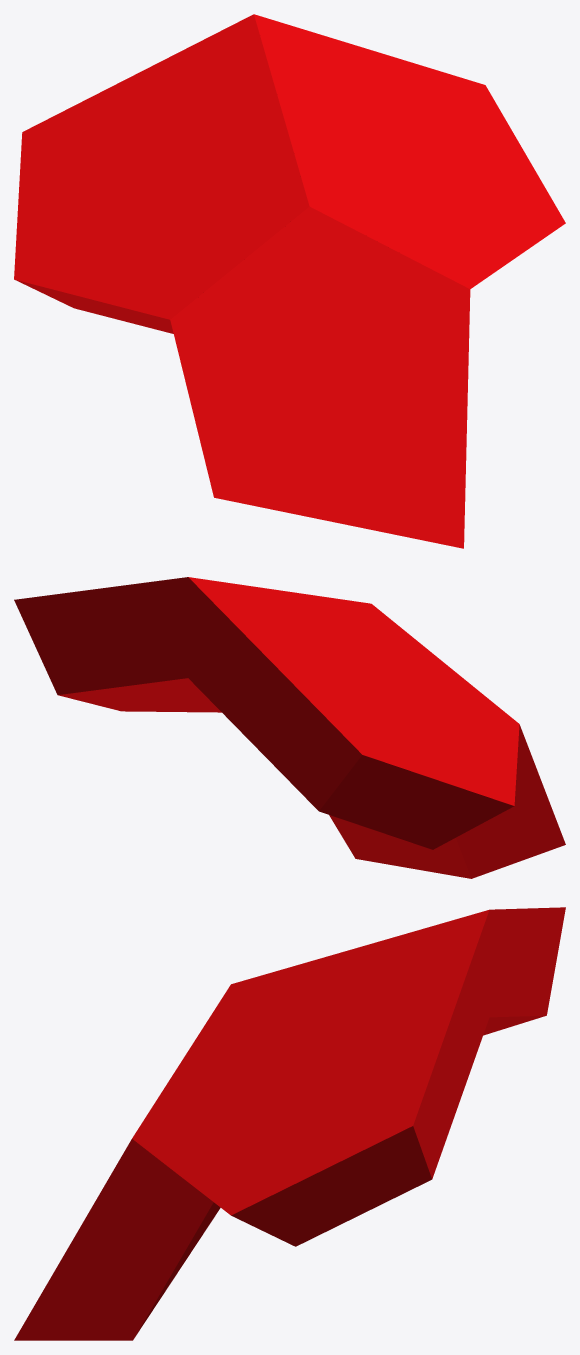
File: piece6.glb
3 renders of one model, top to bottom at view 1: azimuth 30°, elevation 25°; view 2: azimuth 150°, elevation 25°; view 3: azimuth 270°, elevation 25°, orthographic. The views are drawn at different scales.
Visible parts, largest first — view 1: piece_A_6; view 2: piece_A_6; view 3: piece_A_6.
Boxes of the visible parts, <box> form: piece_A_6: <box>14,14,565,548</box>; piece_A_6: <box>14,577,565,878</box>; piece_A_6: <box>14,907,565,1340</box>.
Size of the model in its own units: 2.97 by 2.29 by 2.66.
